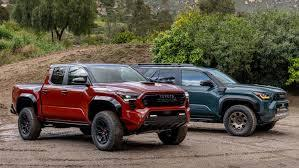toyota: (157, 93, 178, 100), (279, 93, 287, 99)
